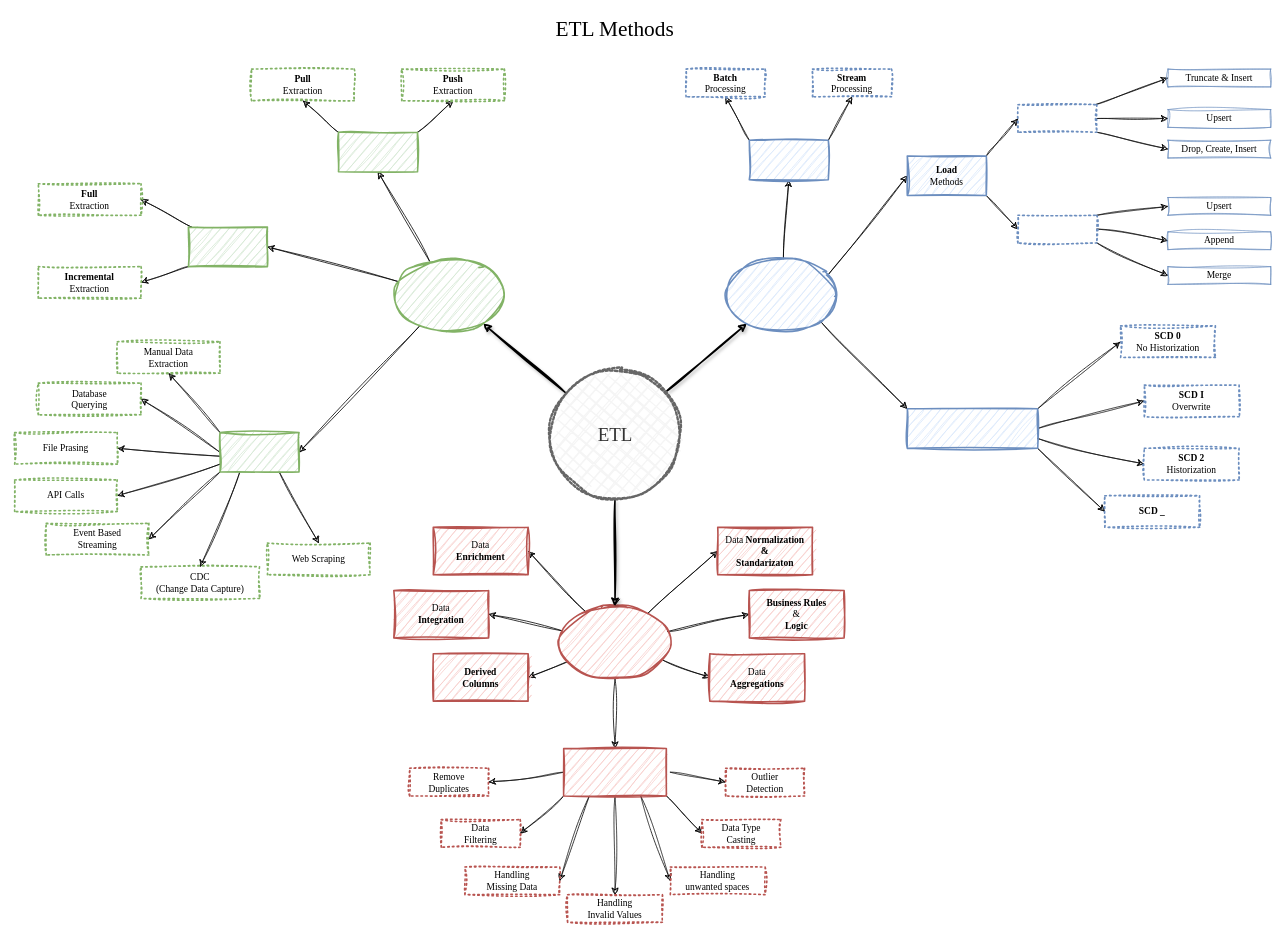
This 1285x936 diagram has some shape labels left out. The shapes that lost their labels are listed below. From the top down, each one's centre as x and y in pixels, then its label:
At [1057,118]: "Full Load".
At [377,151]: "Extraction methods".
At [788,159]: "Processing Types".
At [227,246]: "Extract Types".
At [1057,228]: "Incremental Load".
At [449,295]: "E xtraction".
At [780,295]: "L oad".
At [972,428]: "Slowly Changing Dimensions (SCD)".
At [259,451]: "Extract Techniques".
At [615,642]: "T ransformation".
At [614,771]: "Data Cleansing".
